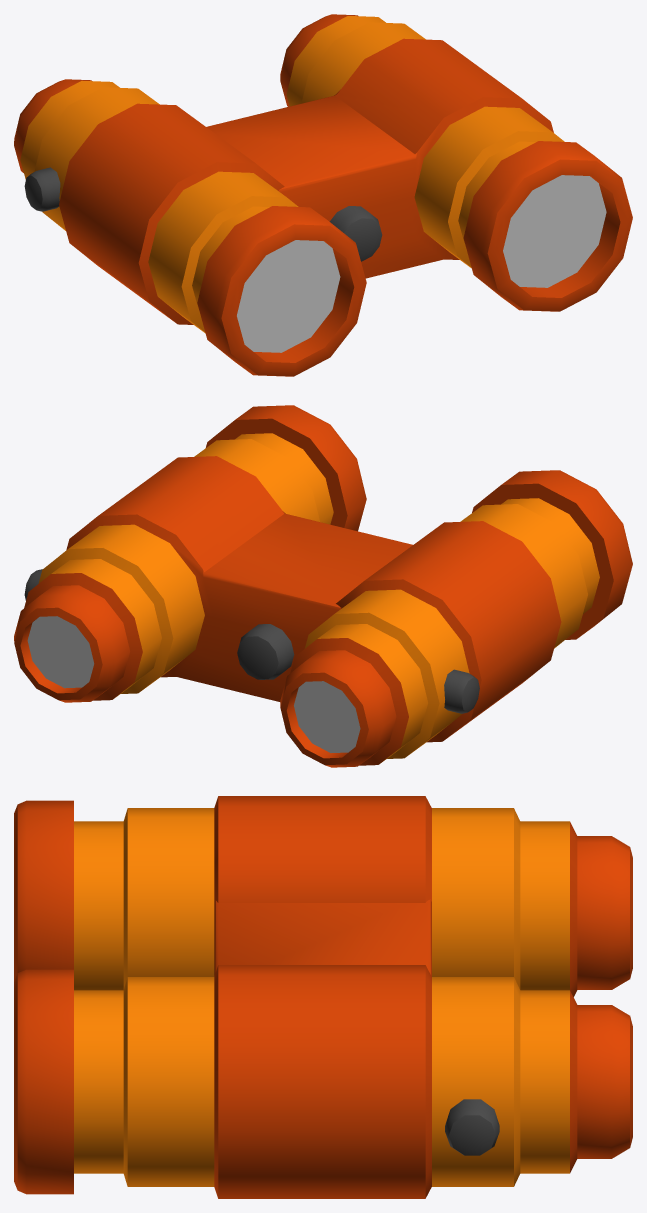
The model's file is Binoculars_1.fbx.
The picture shows the model from 3 angles, top to bottom: view 1: azimuth 30°, elevation 25°; view 2: azimuth 150°, elevation 25°; view 3: azimuth 270°, elevation 25°; orthographic projection. The views are drawn at different scales.
Parts seen in each view (by area): view 1: Binoculars_1; view 2: Binoculars_1; view 3: Binoculars_1.
Boxes of the visible parts, <box> form: Binoculars_1: <box>14,14,632,376</box>; Binoculars_1: <box>14,405,632,767</box>; Binoculars_1: <box>14,796,632,1198</box>.
Bounding box in the file's own units: 0.2659 × 0.0942 × 0.2482.
